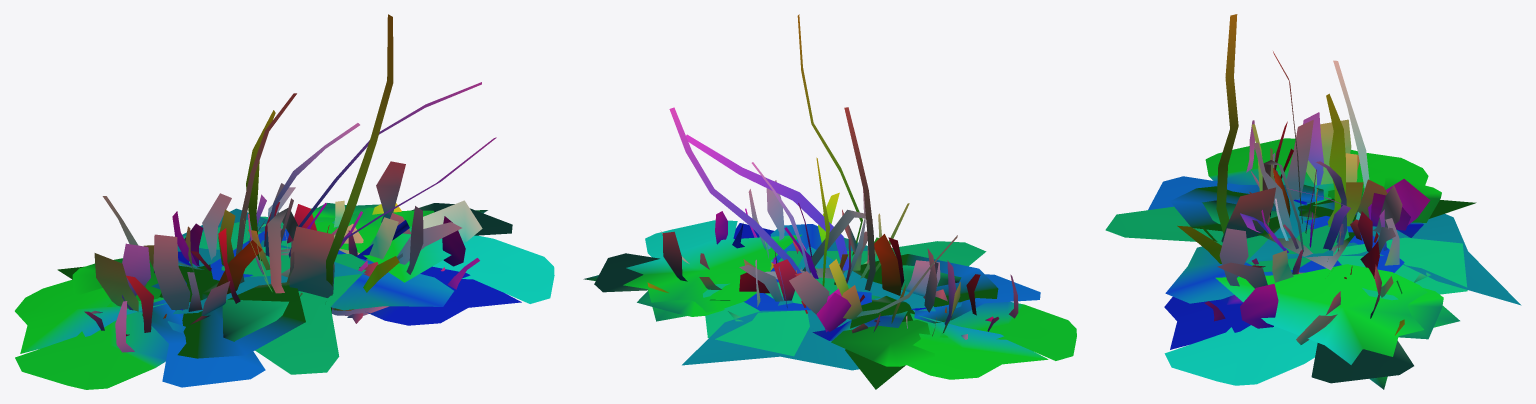
Rendered from Wild_Grass_vdilbaiia_Mid_vdilbaiia_VarB_LOD1.fbx.
The picture shows the model from 3 angles, left to right: view 1: azimuth 30°, elevation 25°; view 2: azimuth 150°, elevation 25°; view 3: azimuth 270°, elevation 25°; orthographic projection. The views are drawn at different scales.
Parts seen in each view (by area): view 1: _0lt6_VarB_LOD2; view 2: _0lt6_VarB_LOD2; view 3: _0lt6_VarB_LOD2.
Part boxes in pixels (left/top/right/bottom): _0lt6_VarB_LOD2: left=15, top=14, right=554, bottom=389; _0lt6_VarB_LOD2: left=583, top=14, right=1076, bottom=389; _0lt6_VarB_LOD2: left=1105, top=14, right=1521, bottom=389.
Bounding box in the file's own units: 88.34 × 48.56 × 61.98.
